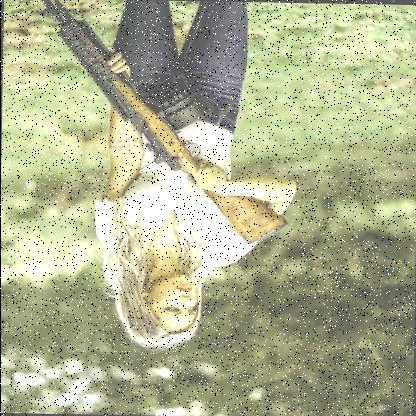rifle: (34, 0, 291, 251)
